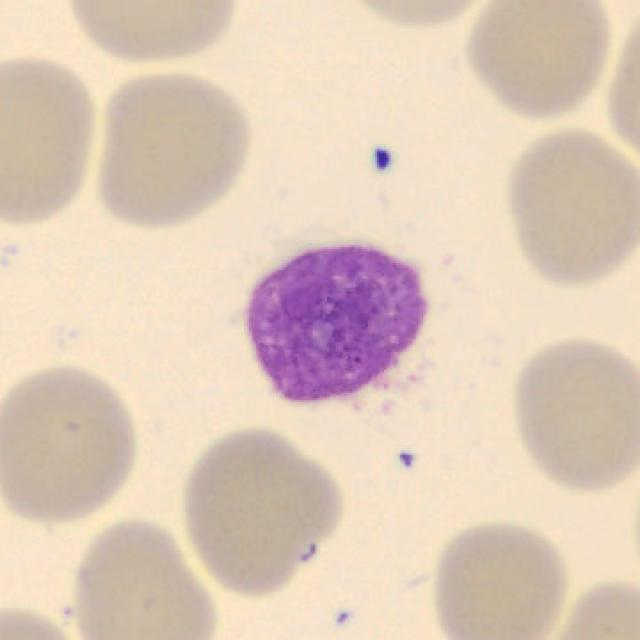Restos celulares: (244, 245, 428, 405)
